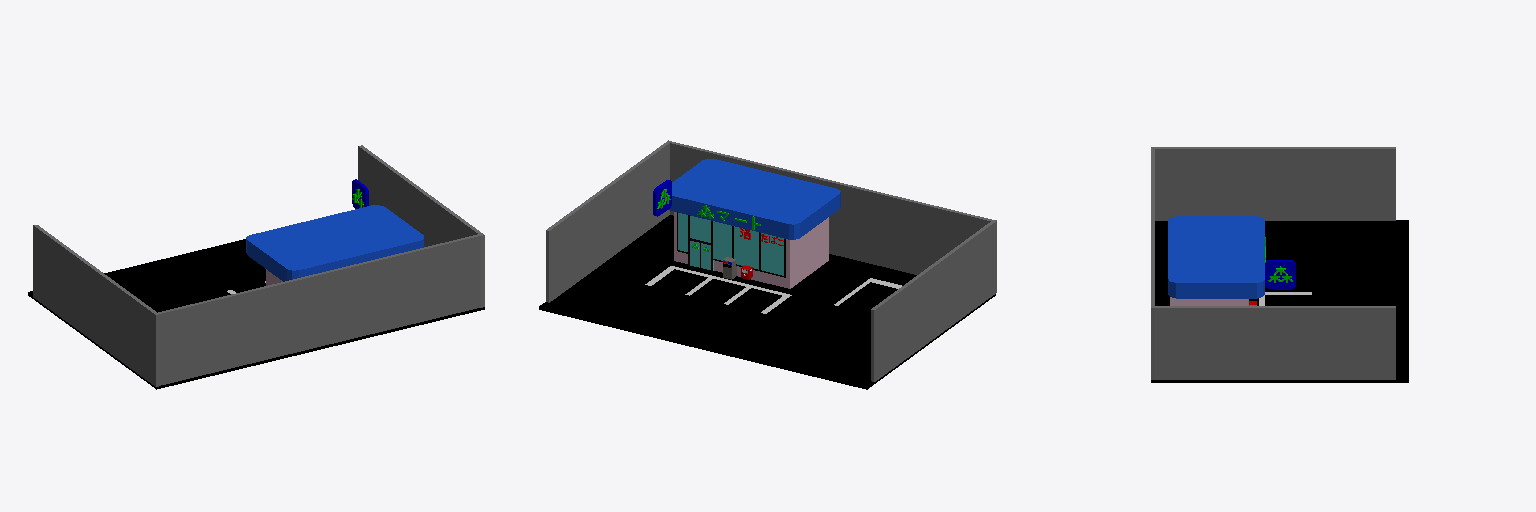
Rendered from konbini.obj.
3 renders of one model, left to right at view 1: azimuth 30°, elevation 25°; view 2: azimuth 150°, elevation 25°; view 3: azimuth 270°, elevation 25°, orthographic.
Visible parts, largest first — view 1: 立方体_立方体.001, 立方体.001_立方体.002, Cube.001, 立方体.016_立方体.019, 立方体.002_立方体.003; view 2: 立方体.016_立方体.019, Cube.001, 立方体_立方体.001, 立方体.001_立方体.002, 立方体.002_立方体.003; view 3: 立方体.002_立方体.003, 立方体.001_立方体.002, 立方体.016_立方体.019, Cube.001, 立方体_立方体.001.
Boxes of the visible parts, x1=… form: 立方体_立方体.001: x1=156, y1=233, x2=483, y2=385; 立方体.001_立方体.002: x1=33, y1=225, x2=159, y2=386; Cube.001: x1=246, y1=179, x2=423, y2=285; 立方体.016_立方体.019: x1=28, y1=239, x2=484, y2=389; 立方体.002_立方体.003: x1=358, y1=145, x2=484, y2=307; 立方体.016_立方体.019: x1=539, y1=215, x2=995, y2=389; Cube.001: x1=653, y1=159, x2=840, y2=288; 立方体_立方体.001: x1=667, y1=141, x2=992, y2=274; 立方体.001_立方体.002: x1=871, y1=220, x2=996, y2=381; 立方体.002_立方体.003: x1=546, y1=140, x2=669, y2=302; 立方体.002_立方体.003: x1=1155, y1=306, x2=1395, y2=379; 立方体.001_立方体.002: x1=1151, y1=147, x2=1395, y2=220; 立方体.016_立方体.019: x1=1151, y1=220, x2=1408, y2=382; Cube.001: x1=1168, y1=216, x2=1295, y2=305; 立方体_立方体.001: x1=1151, y1=148, x2=1154, y2=379.
Bounding box in the file's own units: 9.56 × 2.58 × 6.51.